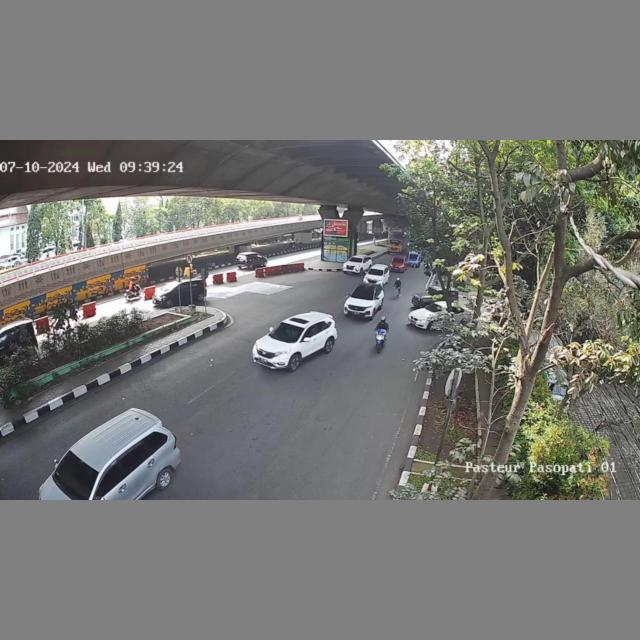windshield: (52, 450, 102, 500), (268, 322, 303, 343), (352, 288, 374, 300), (367, 268, 384, 275)
